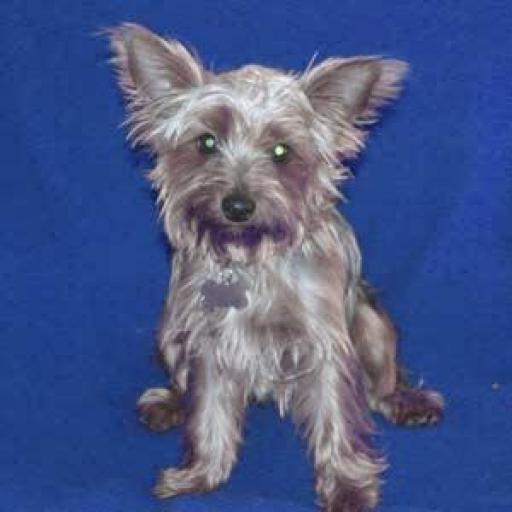dog_face: (109, 24, 379, 256)
